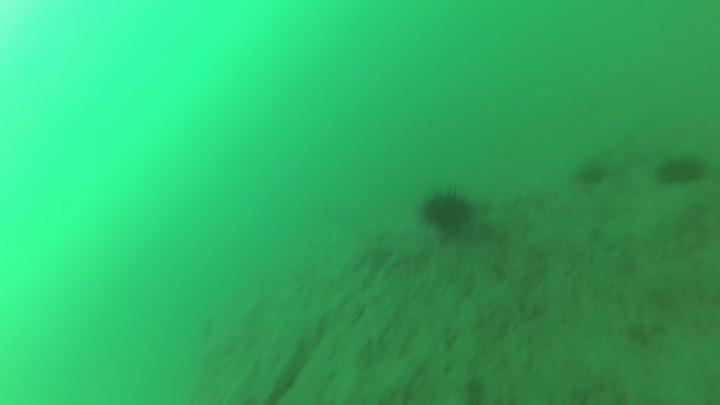echinus: (424, 194, 469, 234), (662, 158, 704, 185), (577, 167, 602, 185)
